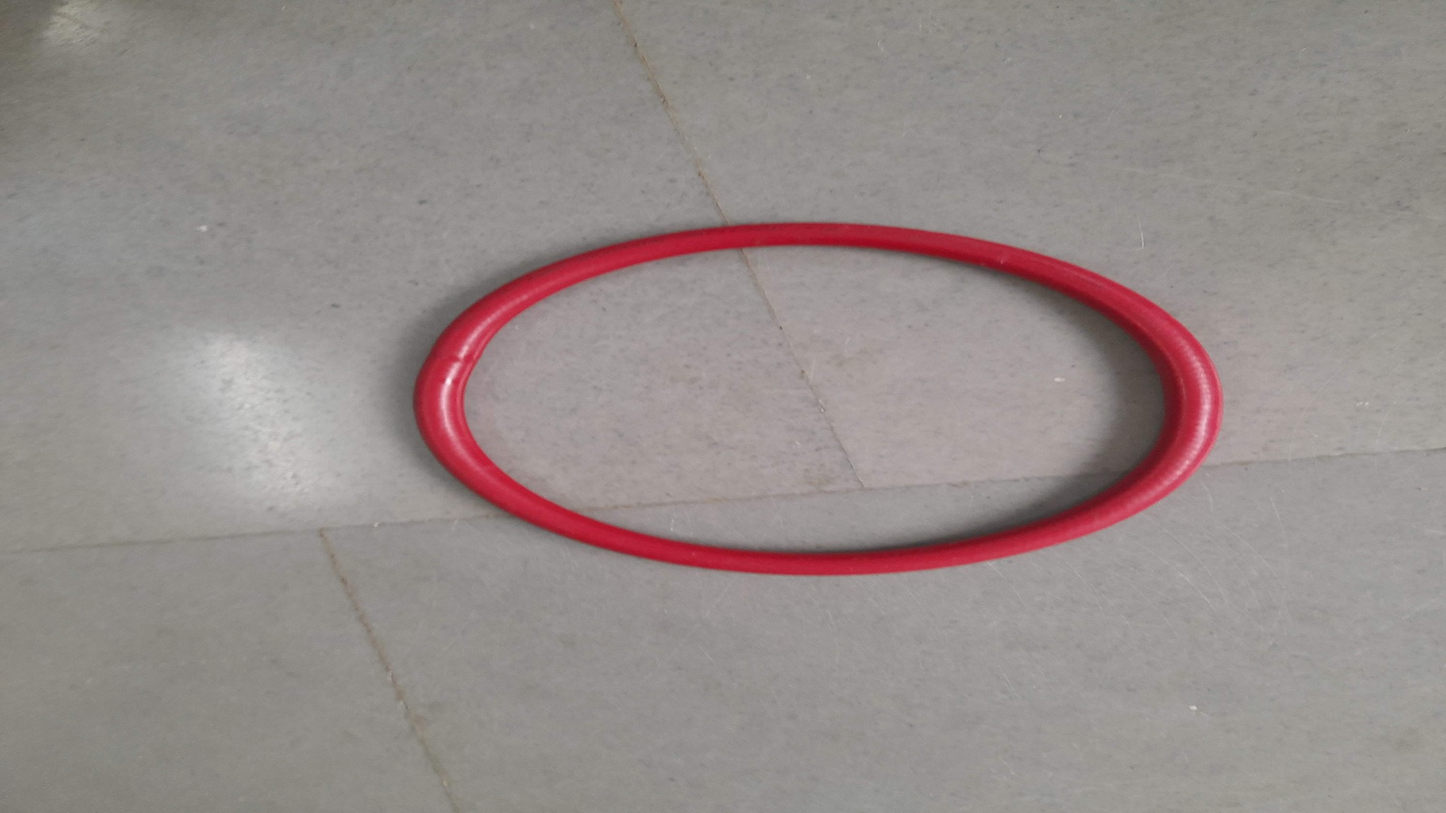Red ring: (413, 221, 1225, 575)
